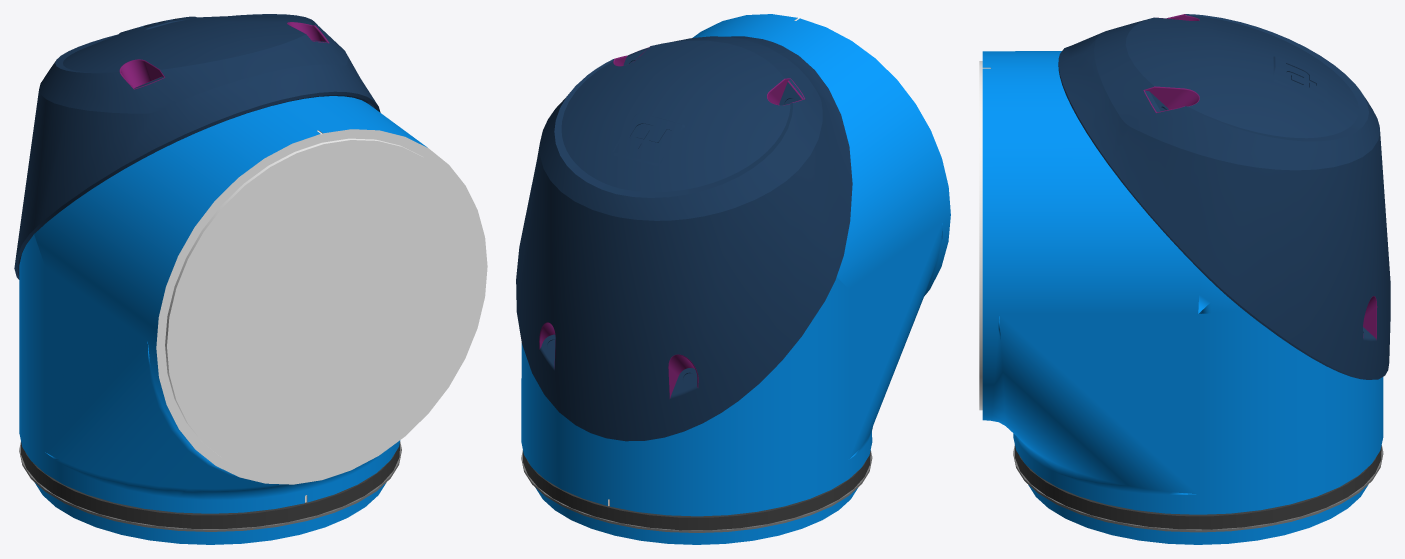
The picture shows the model from 3 angles, left to right: view 1: azimuth 30°, elevation 25°; view 2: azimuth 150°, elevation 25°; view 3: azimuth 270°, elevation 25°; orthographic projection. The views are drawn at different scales.
Parts seen in each view (by area): view 1: RB10-1300E_LINK1:1; view 2: RB10-1300E_LINK1:1; view 3: RB10-1300E_LINK1:1.
Part boxes in pixels (x1,y1,x2,y2): RB10-1300E_LINK1:1: (14, 14, 487, 544); RB10-1300E_LINK1:1: (516, 14, 950, 544); RB10-1300E_LINK1:1: (979, 14, 1390, 544).
Size of the model in its own units: 0.1531 by 0.1691 by 0.1942.
